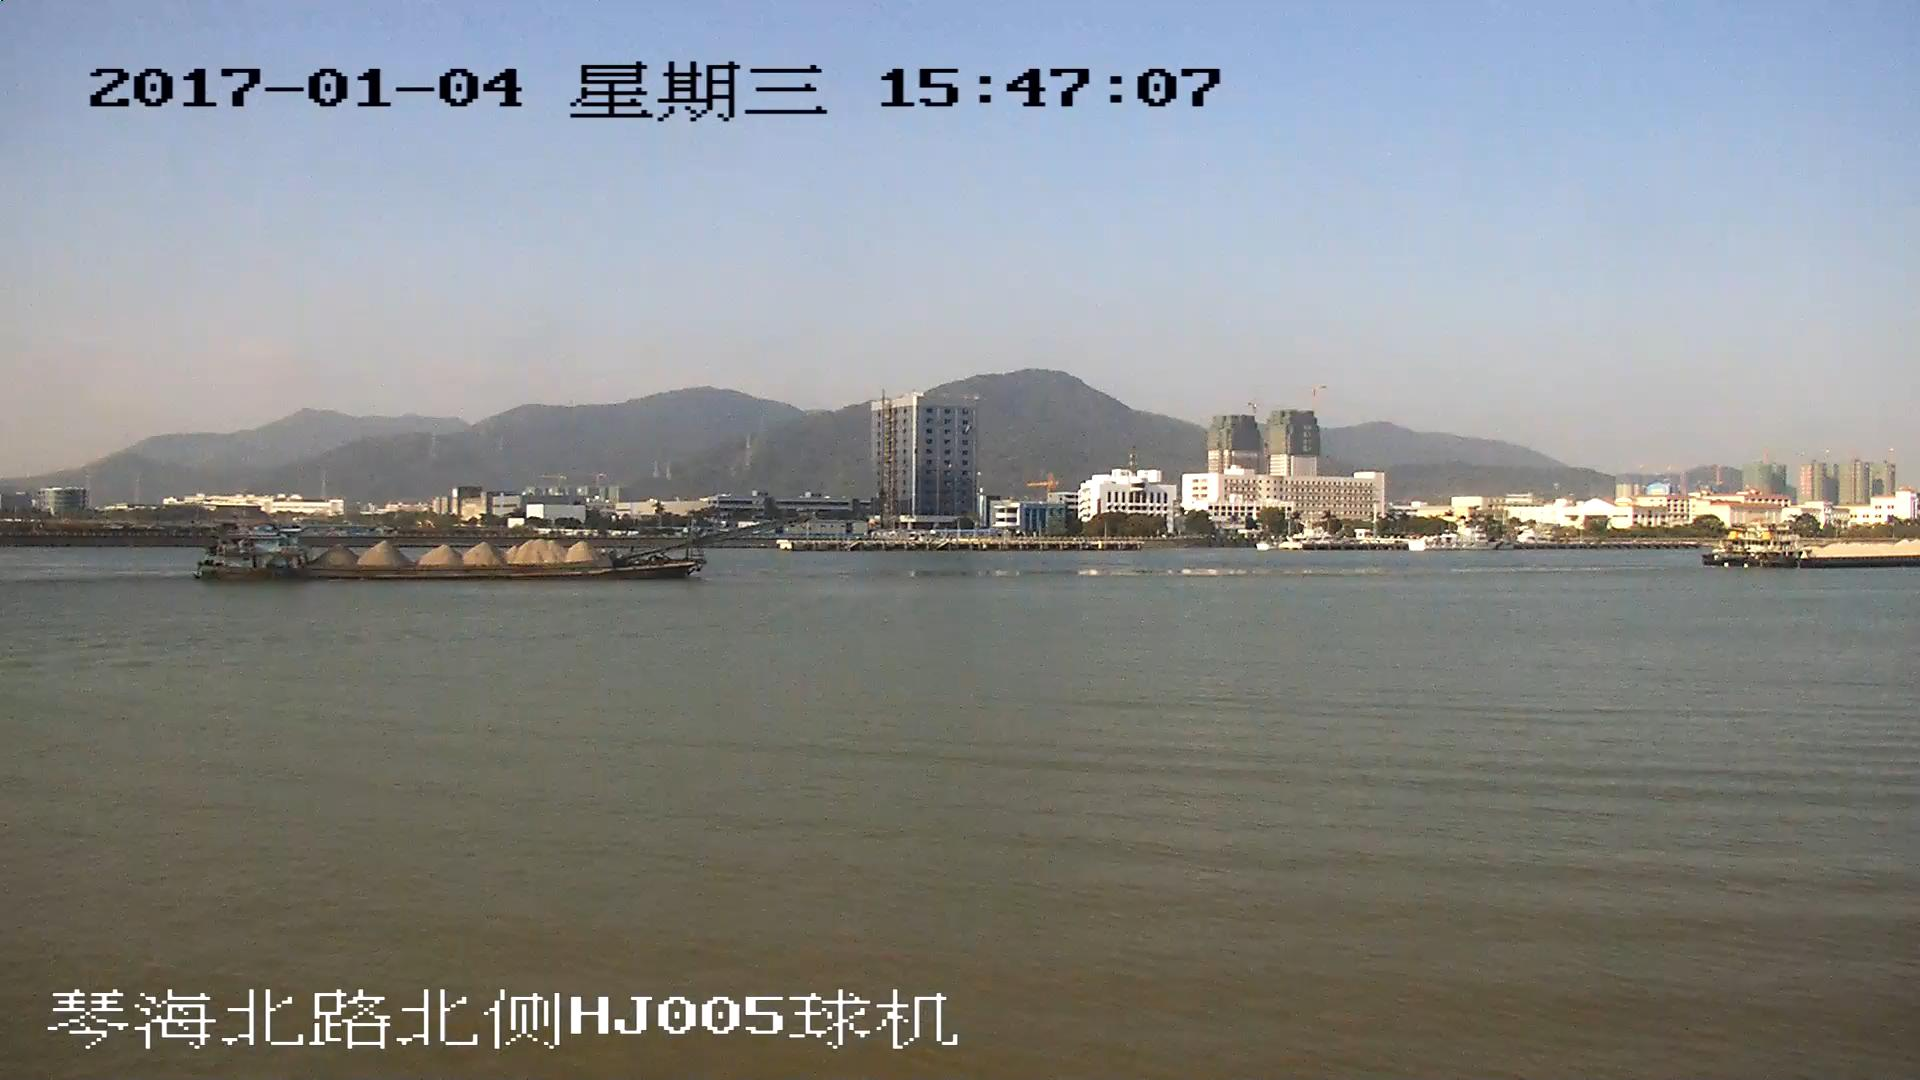ore carrier: (199, 515, 794, 581), (1708, 529, 1920, 566)
